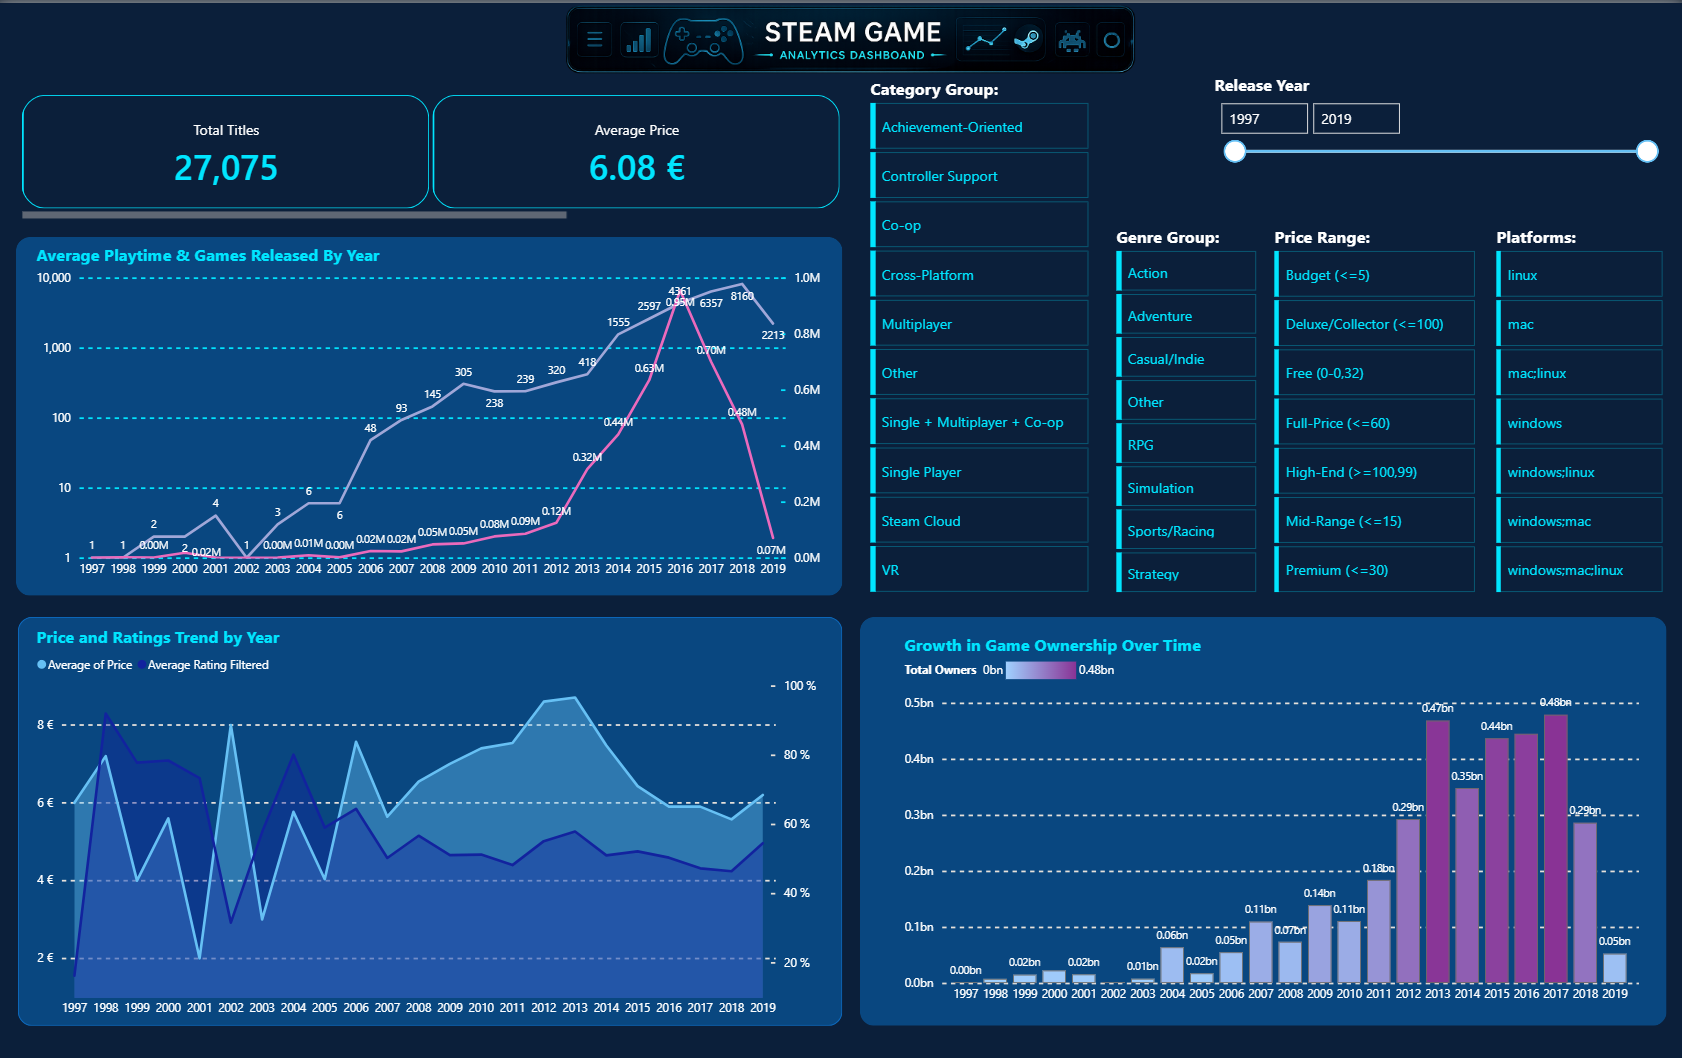

The page's visual inventory and layout, read from the dashboard file:
{"tool":"powerbi","page":{"name":"Trends Over Time","canvas":[1920,1200],"ordinal":1},"visuals":[{"type":"shape","box":[982.5,697.5,917.5,465],"z":0},{"type":"shape","box":[25,697.5,937.5,465],"z":1000},{"type":"shape","box":[22,266,940,408],"z":2000},{"type":"lineChart","title":"Average Playtime & Games Released By Year","fields":{"Y":["CountNonNull(steam_release_date.appid)"],"Category":["steam_release_date.release_date.Variation.Date Hierarchy.Year"],"Y2":["Sum(steam.average_playtime)"]},"box":[40,272,902,390],"z":3000},{"type":"areaChart","title":"Price and Ratings Trend by Year","fields":{"Category":["steam_release_date.release_date.Variation.Date Hierarchy.Year"],"Y":["Avg(steam.price)"],"Y2":["steam.AverageRatingFiltered"]},"box":[40,707.5,897.5,455],"z":4000},{"type":"columnChart","title":"Growth in Game Ownership Over Time","fields":{"Y":["Sum(steam.median_owners)"],"Category":["steam_release_date.release_date.Variation.Date Hierarchy.Year"]},"box":[1027.5,717.5,845,430],"z":5000},{"type":"advancedSlicerVisual","title":"Genre Group:","fields":{"Values":["steam.genres_group"]},"box":[1269.5,253.3,169.4,427.2],"z":6000},{"type":"advancedSlicerVisual","title":"Price Range:","fields":{"Values":["steam.price_range_label"]},"box":[1449.4,253.3,238.3,427.2],"z":8000},{"type":"advancedSlicerVisual","title":"Platforms:","fields":{"Values":["steam.platforms"]},"box":[1701.2,253.3,199.3,427.2],"z":9000},{"type":"advancedSlicerVisual","title":"Category Group:","fields":{"Values":["steam.categories_group"]},"box":[990,84,258,600],"z":10000},{"type":"slicer","title":"Release Year","fields":{"Values":["steam_release_date.release_date.Variation.Date Hierarchy.Year"]},"box":[1381.9,79.4,518.6,118.4],"z":11000},{"type":"cardVisual","fields":{"Data":["CountNonNull(steam.appid)","Avg(steam.price)","Avg(steam.average_playtime)"]},"box":[24,100,940,152],"z":12000},{"type":"image","box":[22,0,1898,80],"z":12001}]}

Visuals, with their boxes in screenshot pixels (x1, y1, x2, y2), scaled from the page's 1920x1200 canvas onto the 1682x1058 screenshot:
shape: {"left": 861, "top": 615, "right": 1664, "bottom": 1025}
shape: {"left": 22, "top": 615, "right": 843, "bottom": 1025}
shape: {"left": 19, "top": 235, "right": 843, "bottom": 594}
"Average Playtime & Games Released By Year" lineChart: {"left": 35, "top": 240, "right": 825, "bottom": 584}
"Price and Ratings Trend by Year" areaChart: {"left": 35, "top": 624, "right": 821, "bottom": 1025}
"Growth in Game Ownership Over Time" columnChart: {"left": 900, "top": 633, "right": 1640, "bottom": 1012}
"Genre Group:" advancedSlicerVisual: {"left": 1112, "top": 223, "right": 1261, "bottom": 600}
"Price Range:" advancedSlicerVisual: {"left": 1270, "top": 223, "right": 1478, "bottom": 600}
"Platforms:" advancedSlicerVisual: {"left": 1490, "top": 223, "right": 1665, "bottom": 600}
"Category Group:" advancedSlicerVisual: {"left": 867, "top": 74, "right": 1093, "bottom": 603}
"Release Year" slicer: {"left": 1211, "top": 70, "right": 1665, "bottom": 174}
cardVisual - CountNonNull(steam.appid) x Avg(steam.price): {"left": 21, "top": 88, "right": 845, "bottom": 222}
image: {"left": 19, "top": 0, "right": 1681, "bottom": 71}
